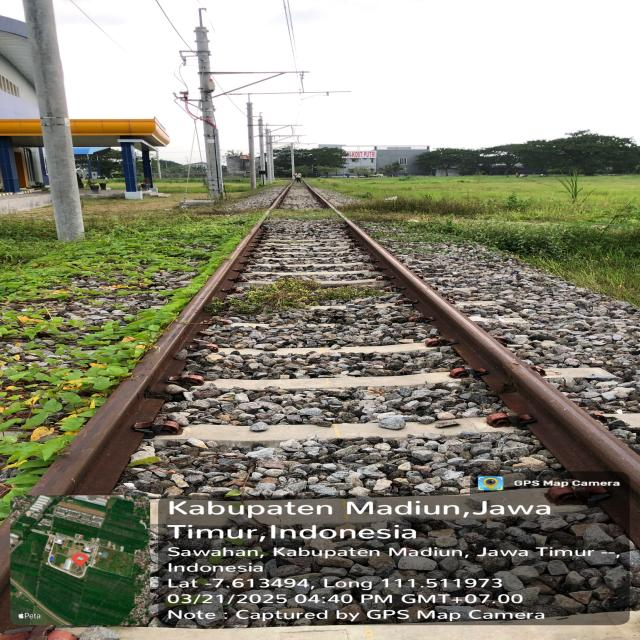rail-detection: (345, 219, 640, 547), (30, 220, 262, 494)
